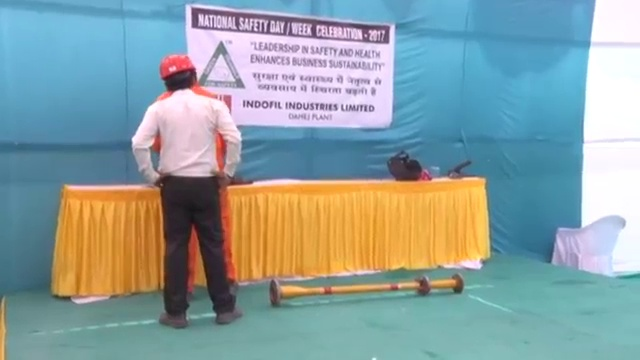helmet: (159, 53, 196, 79)
helmet_on: (158, 53, 199, 97)
person: (132, 52, 245, 325)
